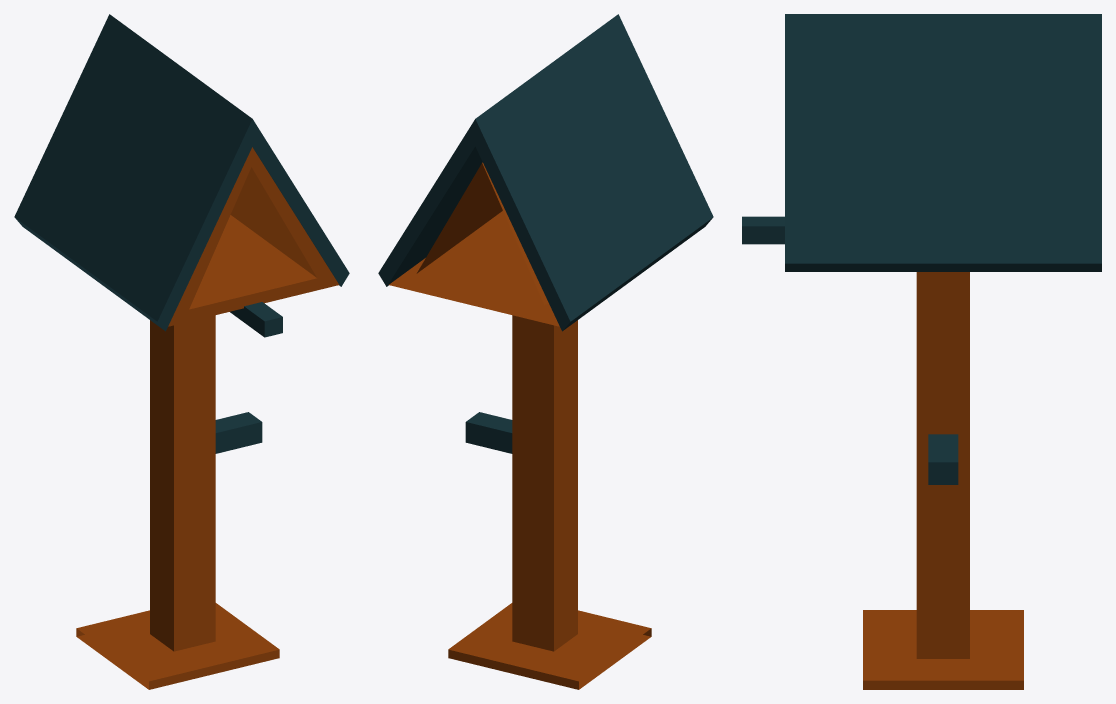
The model's file is bird_house_3.FBX.
The picture shows the model from 3 angles, left to right: view 1: azimuth 30°, elevation 25°; view 2: azimuth 150°, elevation 25°; view 3: azimuth 270°, elevation 25°; orthographic projection. The views are drawn at different scales.
Visible parts, largest first — view 1: bird_house_3; view 2: bird_house_3; view 3: bird_house_3.
Boxes of the visible parts, box(x1,y1,x2,y2) form: bird_house_3: box(14, 14, 349, 689); bird_house_3: box(378, 14, 713, 689); bird_house_3: box(742, 14, 1101, 689).
Size of the model in its own units: 0.6813 by 1.97 by 0.9978.
1 material, 1 textured.
